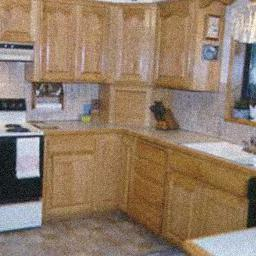Electrodomestico: (0, 100, 43, 233)
Lavaplatos: (177, 130, 256, 173)
